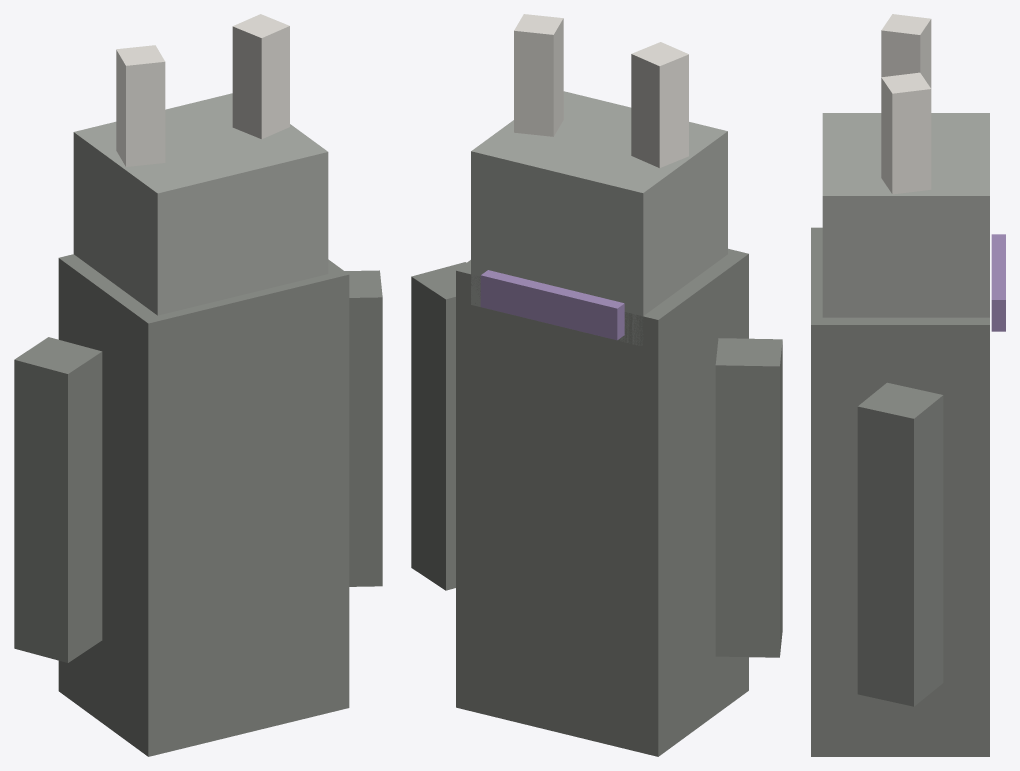
Rendered from br_monster.glb.
The picture shows the model from 3 angles, left to right: view 1: azimuth 30°, elevation 25°; view 2: azimuth 150°, elevation 25°; view 3: azimuth 270°, elevation 25°; orthographic projection.
Parts seen in each view (by area): view 1: br_monster_rockDark, br_monster_rockMid, br_monster_bone; view 2: br_monster_rockDark, br_monster_rockMid, br_monster_bone, br_monster_purple; view 3: br_monster_rockDark, br_monster_rockMid, br_monster_bone, br_monster_purple.
Part boxes in pixels (x1,y1,x2,y2): br_monster_rockDark: (14,254,382,756); br_monster_rockMid: (73,93,328,315); br_monster_bone: (116,14,289,166); br_monster_rockDark: (411,248,782,756); br_monster_rockMid: (471,91,727,345); br_monster_bone: (514,14,688,168); br_monster_purple: (480,270,624,340); br_monster_rockDark: (811,227,989,756); br_monster_rockMid: (822,113,989,317); br_monster_bone: (881,14,931,194); br_monster_purple: (991,234,1005,331).
Size of the model in its own units: 1.46 by 2.5 by 0.675.
